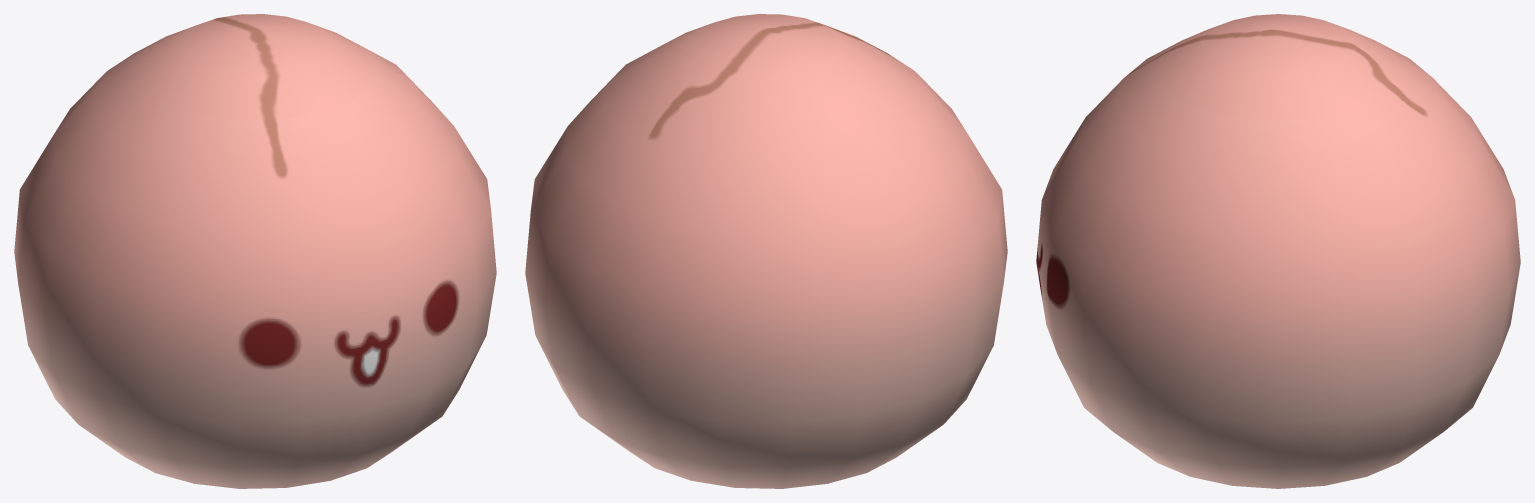
The model's file is Peach.fbx.
3 views of the same model, side by side, from view 1: azimuth 30°, elevation 25°; view 2: azimuth 150°, elevation 25°; view 3: azimuth 270°, elevation 25° (orthographic).
Visible parts, largest first — view 1: Peach; view 2: Peach; view 3: Peach.
Boxes of the visible parts, box(x1,y1,x2,y2) form: Peach: box(14, 14, 496, 488); Peach: box(525, 14, 1007, 488); Peach: box(1036, 14, 1520, 488).
Bounding box in the file's own units: 13.07 × 12.78 × 13.07.
